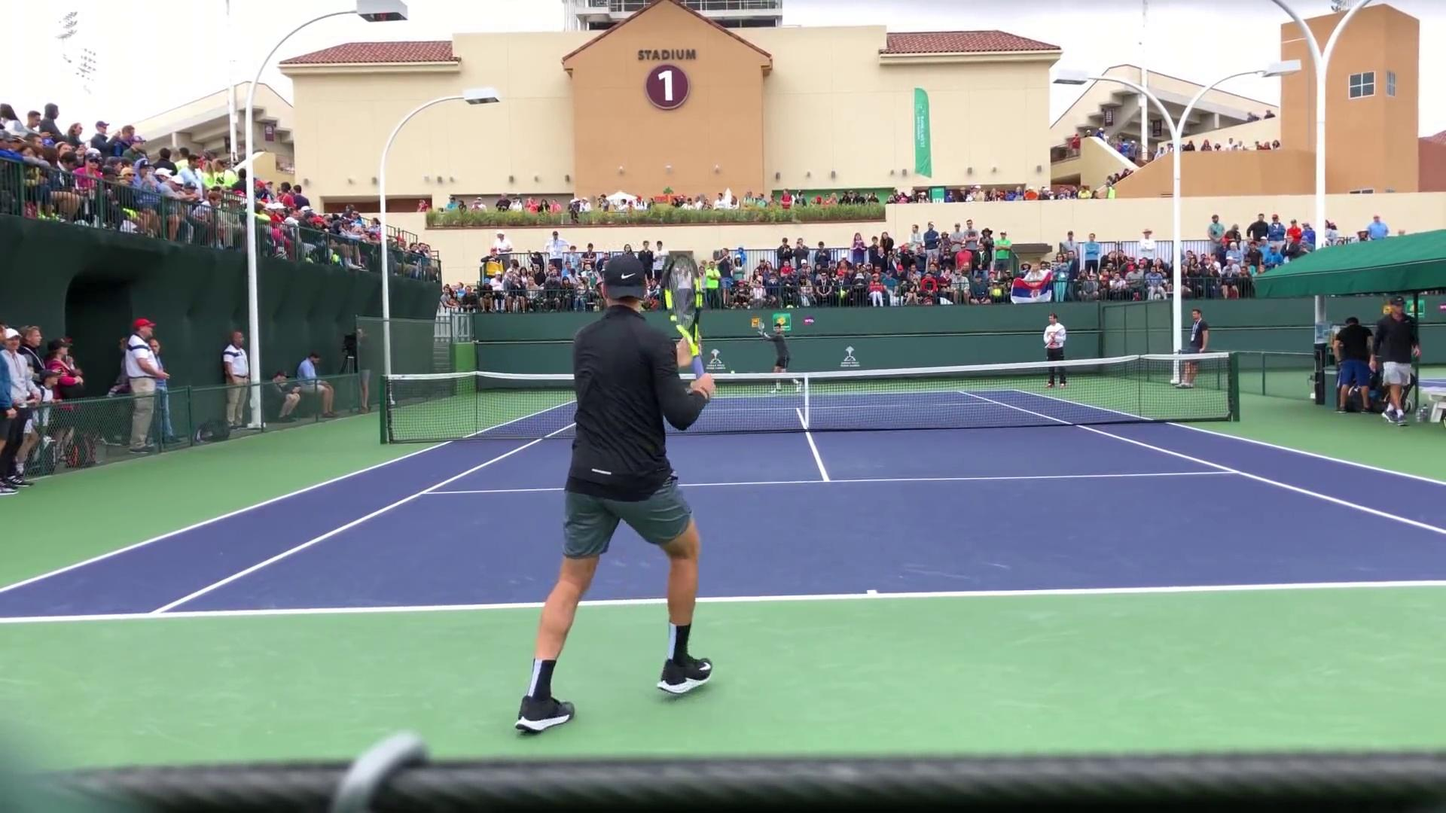ball: (729, 370, 735, 375)
